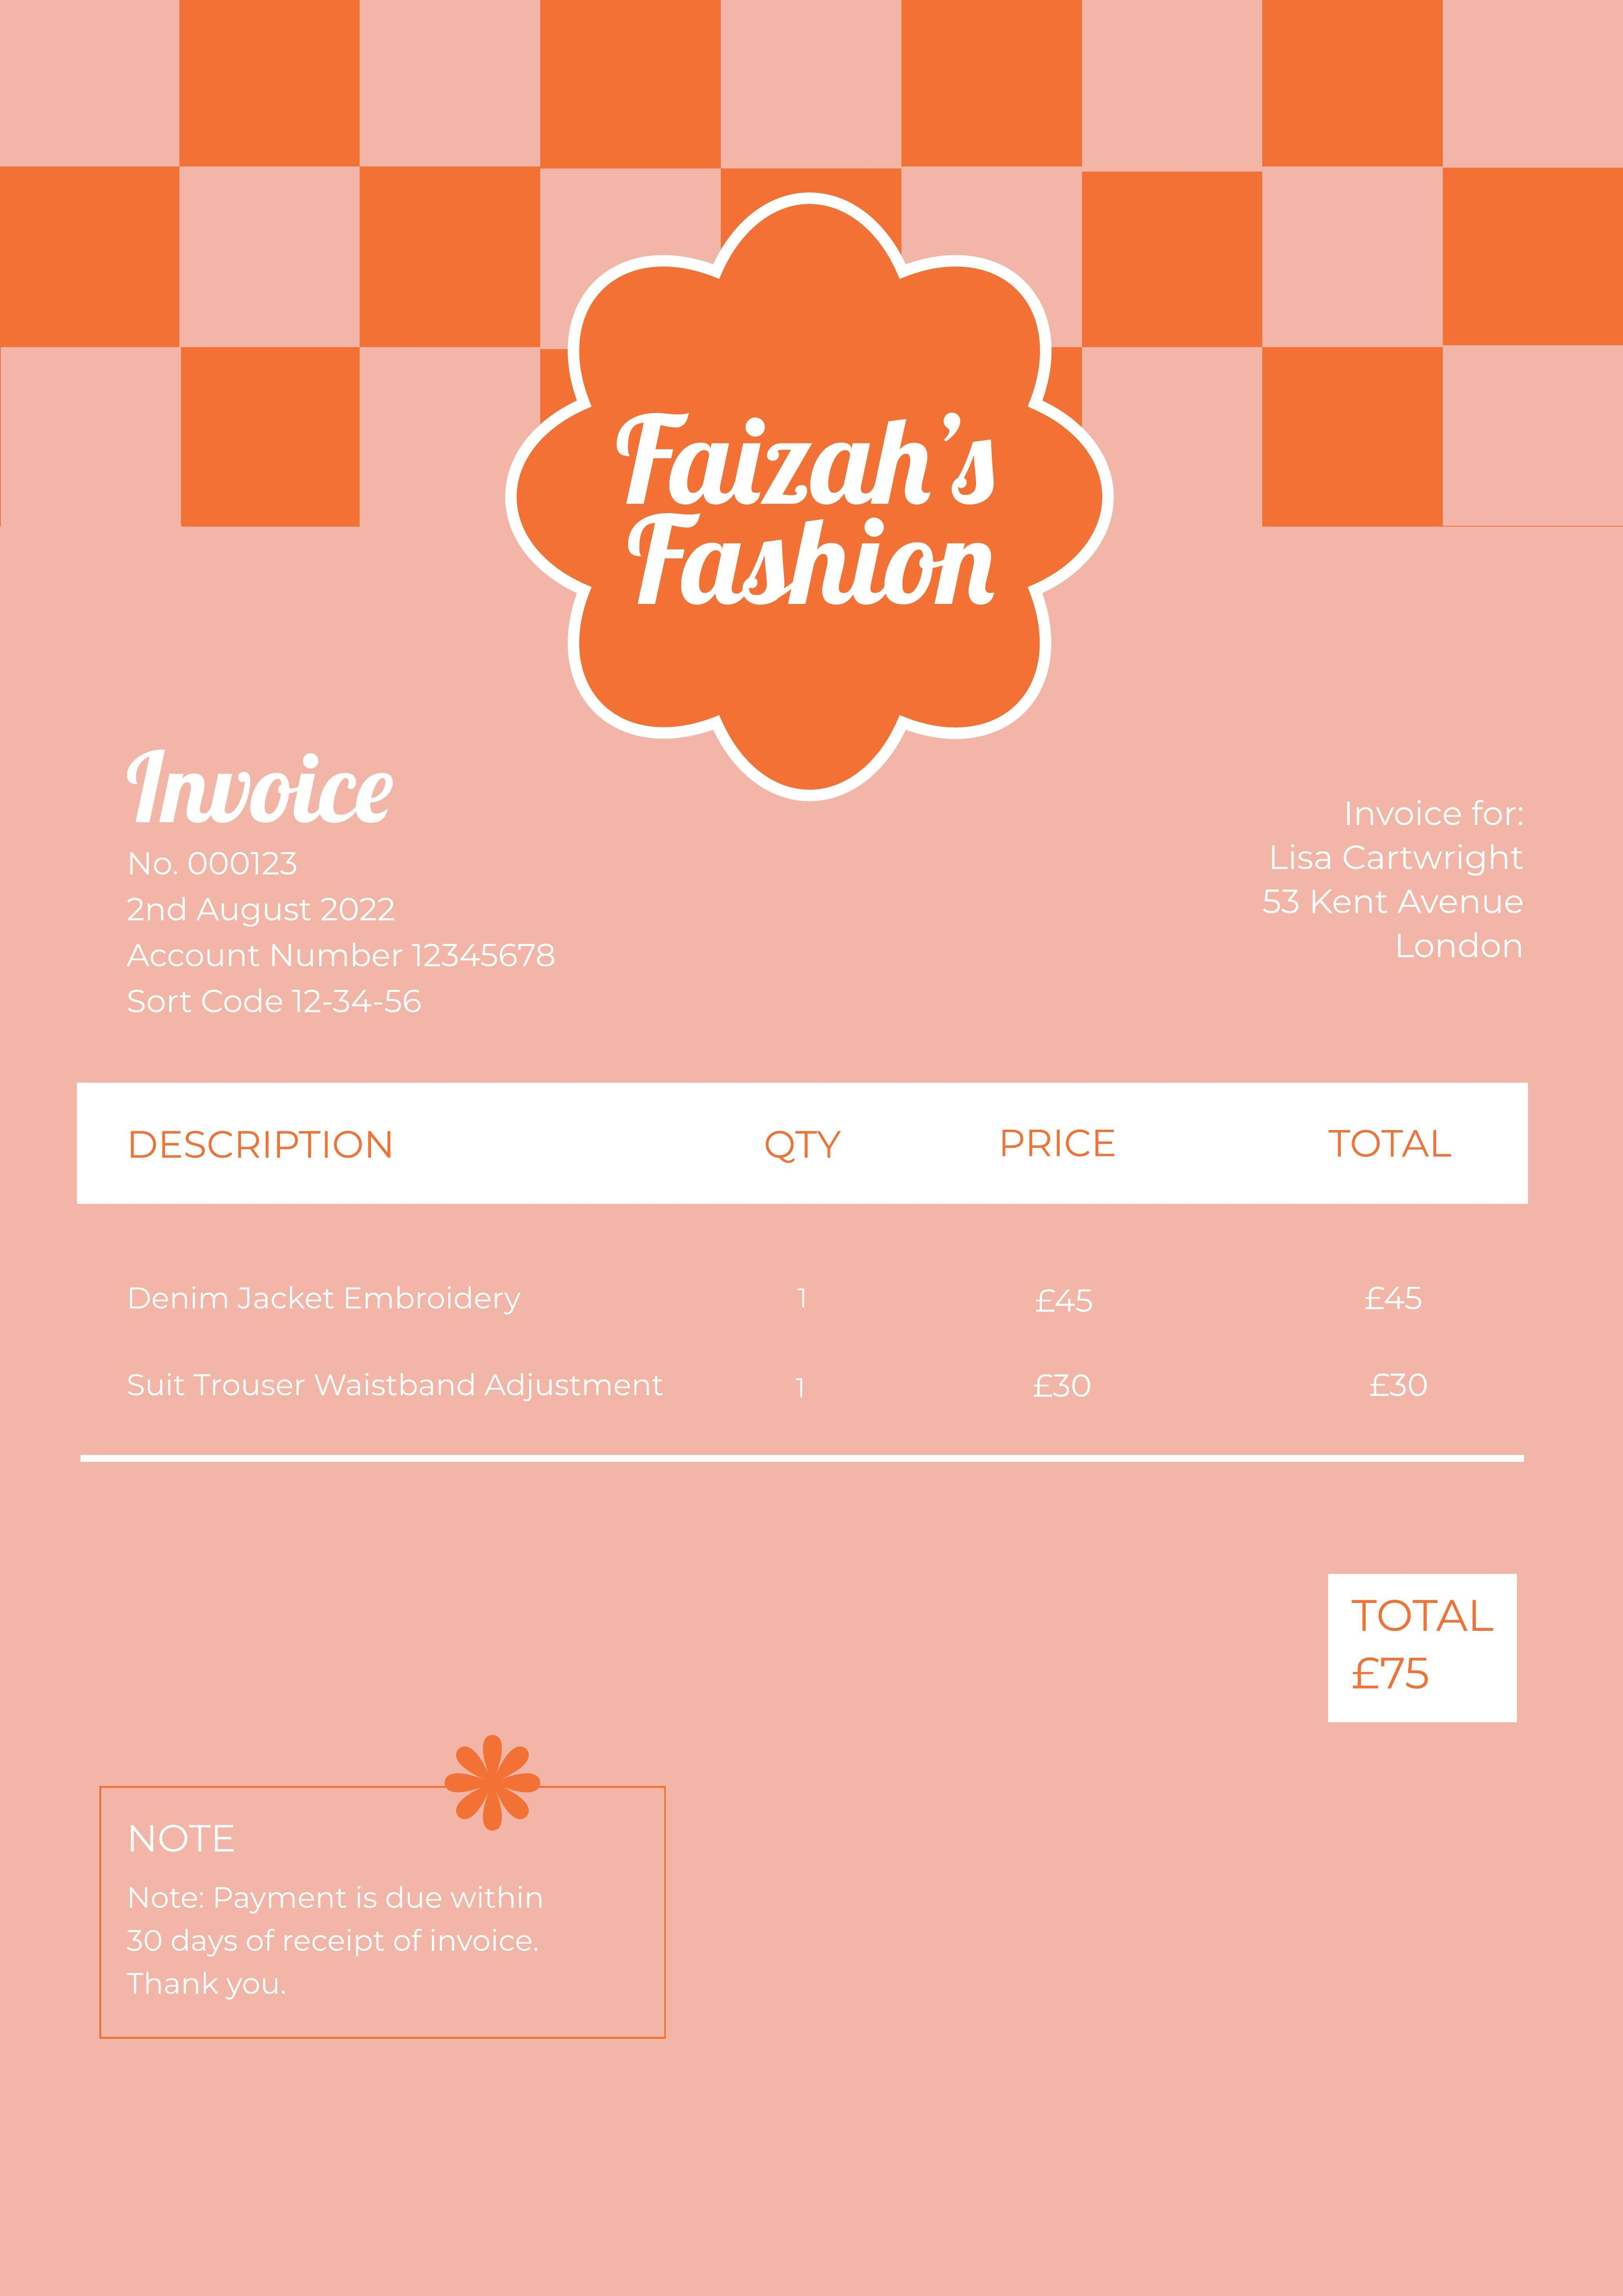ROI: (105, 1112, 1491, 1442), (595, 397, 1017, 641), (116, 1818, 571, 2015), (119, 841, 578, 1035), (1242, 787, 1542, 986), (1330, 1583, 1505, 1709)
